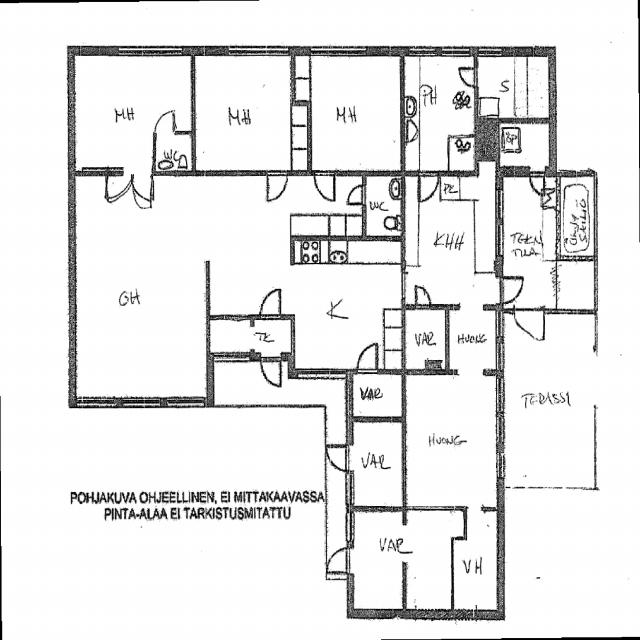door: (514, 308, 544, 351), (106, 170, 132, 207), (314, 170, 335, 202), (260, 288, 280, 319), (326, 445, 350, 470), (500, 277, 524, 302), (267, 170, 287, 200), (132, 170, 152, 200), (261, 357, 281, 386), (357, 345, 377, 374), (326, 548, 350, 572), (420, 170, 438, 199), (156, 108, 174, 134), (415, 286, 430, 310), (461, 68, 478, 86), (348, 186, 365, 204), (530, 171, 543, 193)
